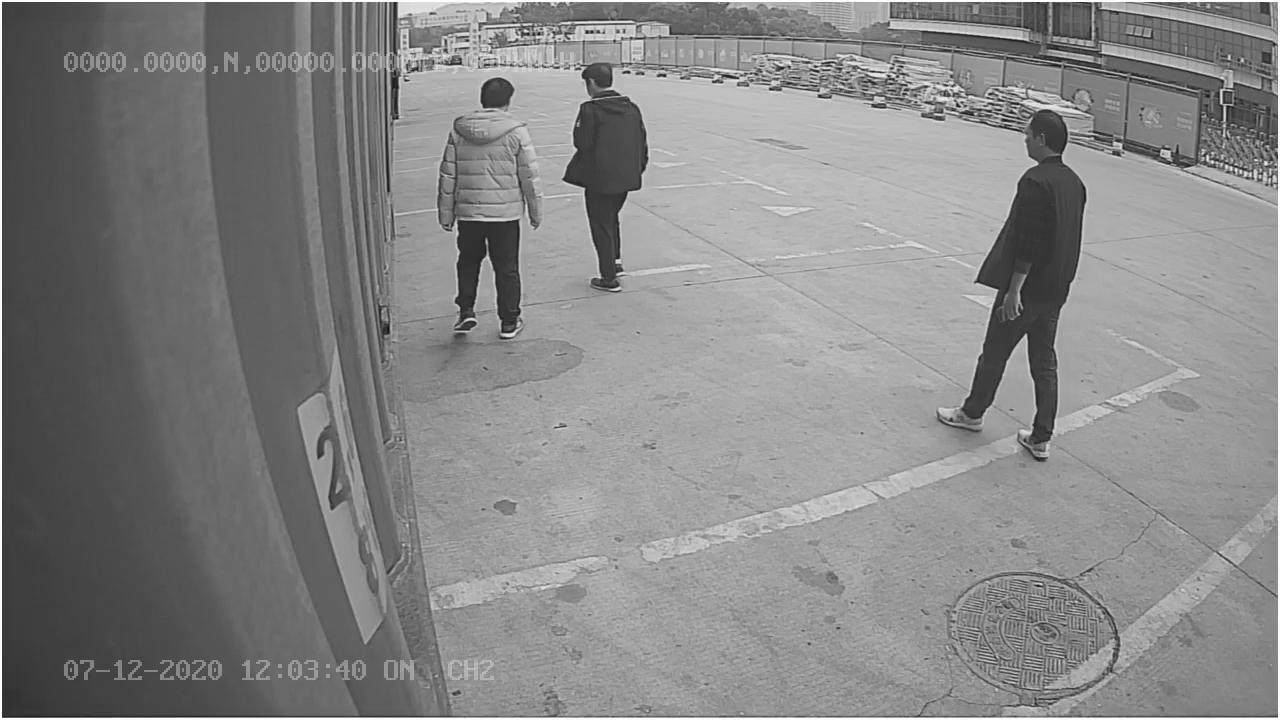person: (936, 103, 1088, 462), (432, 74, 547, 338), (564, 57, 647, 297)
